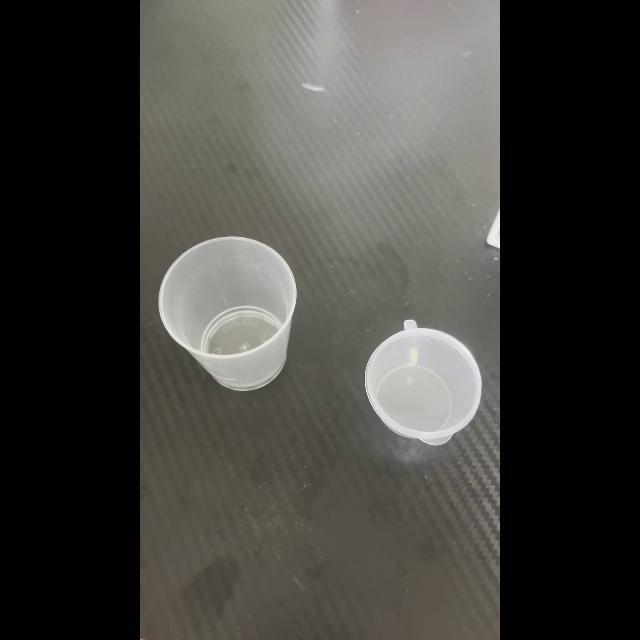clean: (157, 236, 297, 388), (362, 322, 483, 444)
